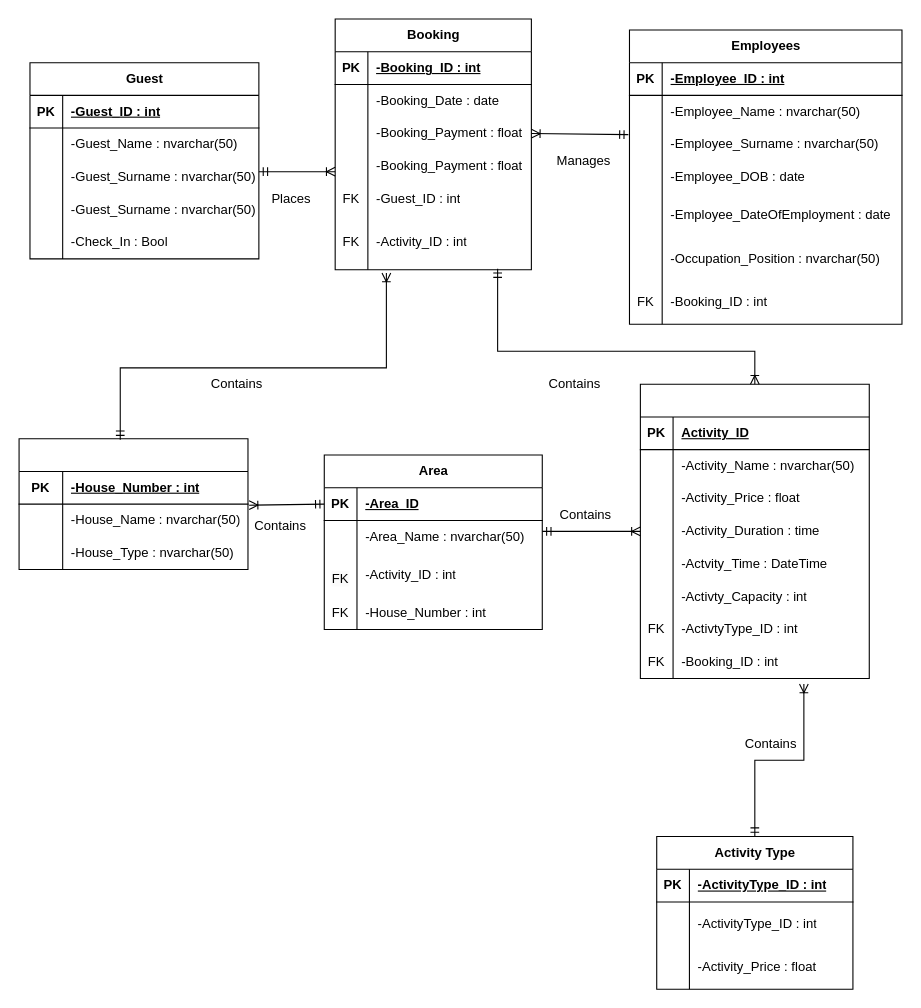
The diagram is 921 pixels wide and 1008 high, and some of its shapes have lost their labels. Each missing label, with the box of its shape:
Activities: (639, 383, 869, 679)
Guest House: (18, 438, 248, 570)
